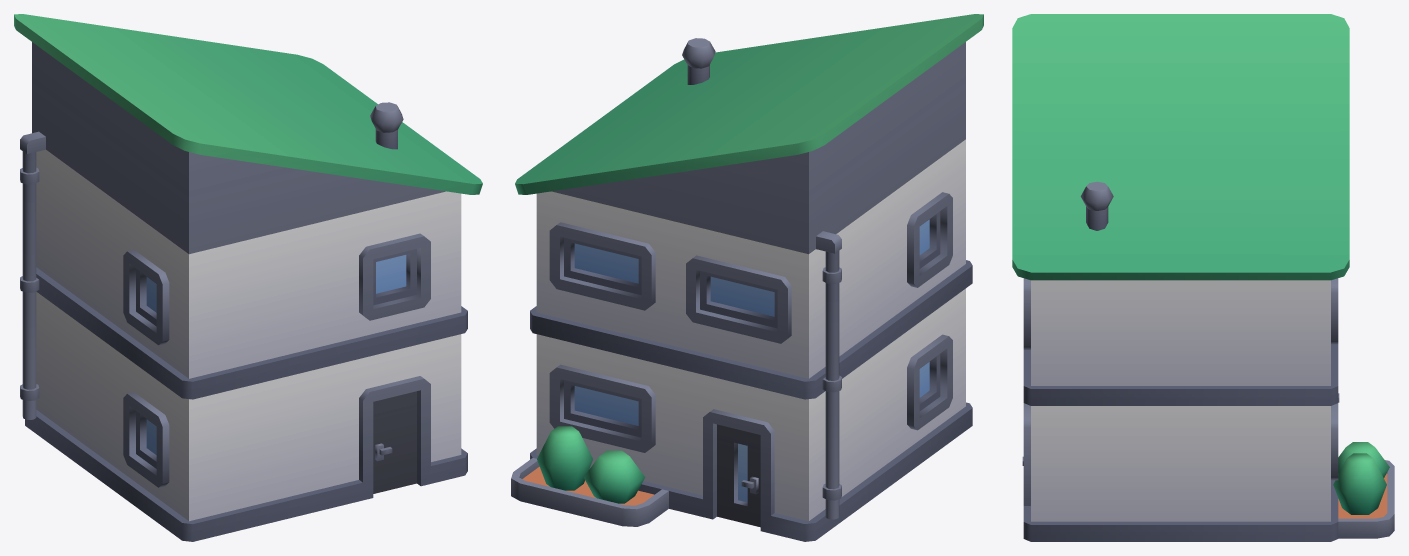
File: u-building-type-k.glb
The picture shows the model from 3 angles, left to right: view 1: azimuth 30°, elevation 25°; view 2: azimuth 150°, elevation 25°; view 3: azimuth 270°, elevation 25°; orthographic projection. The views are drawn at different scales.
Parts seen in each view (by area): view 1: building-type-k; view 2: building-type-k; view 3: building-type-k.
Boxes of the visible parts, box(x1,y1,x2,y2) form: building-type-k: box(14, 14, 482, 541); building-type-k: box(511, 14, 983, 541); building-type-k: box(1012, 14, 1394, 541).
Bounding box in the file's own units: 0.921 × 1.15 × 1.02.
Materials: 1 (1 with a texture image).
